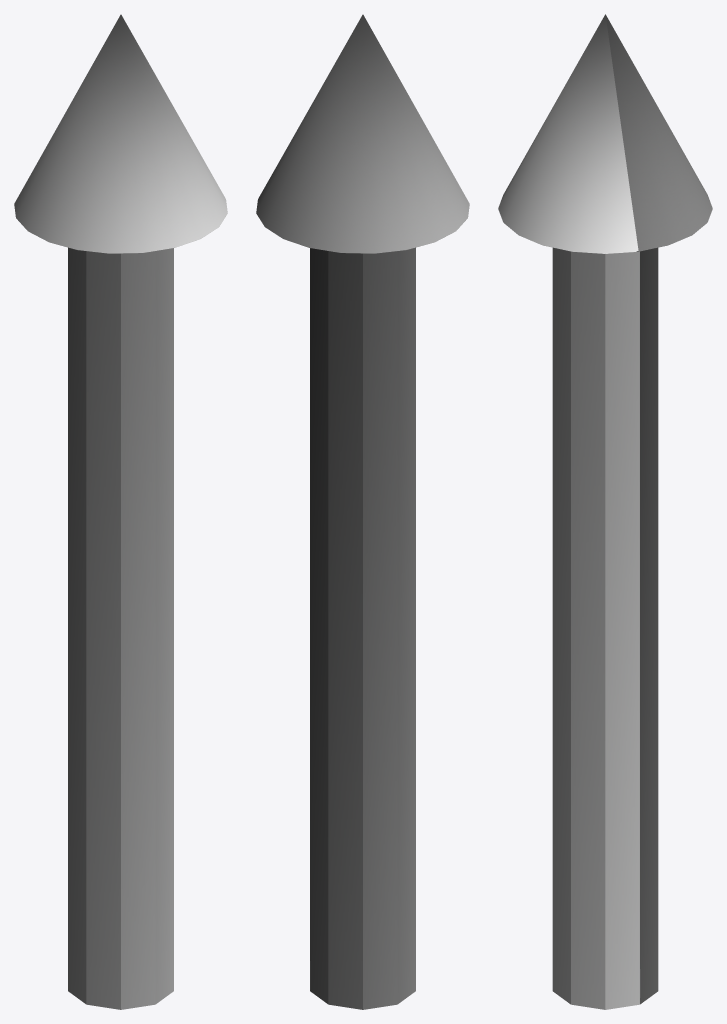
File: transmanip.dae
The picture shows the model from 3 angles, left to right: view 1: azimuth 30°, elevation 25°; view 2: azimuth 150°, elevation 25°; view 3: azimuth 270°, elevation 25°; orthographic projection.
Parts seen in each view (by area): view 1: polySurface1; view 2: polySurface1; view 3: polySurface1.
Boxes of the visible parts, x1,y1,x2,y2 form: polySurface1: (14,14,227,1009); polySurface1: (256,14,469,1009); polySurface1: (498,14,712,1009).
Bounding box in the file's own units: 4 × 20 × 4.
